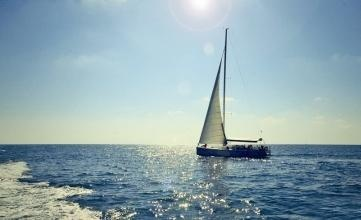fanchuan: (196, 26, 272, 158)
